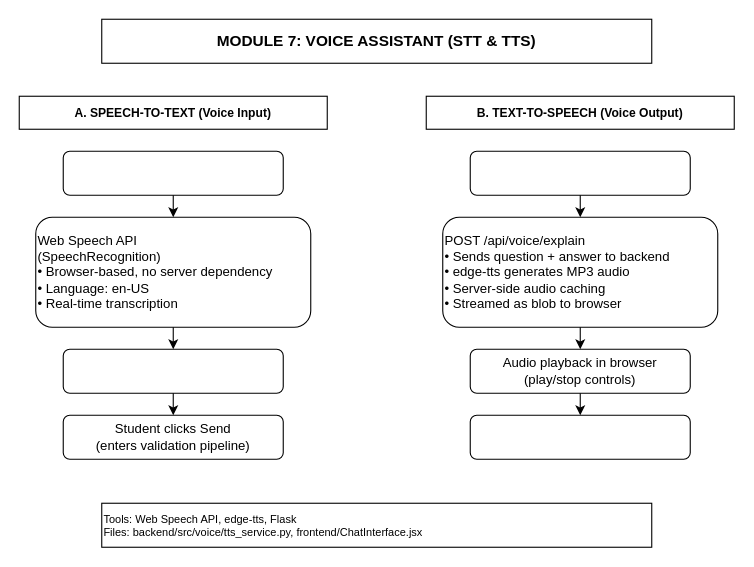
This 754x567 diagram has some shape labels left out. Each missing label, with the box of its shape:
Cached on server (audio_cache/ directory): (469, 414, 690, 459)
Student clicks Mic button: (62, 150, 283, 195)
Student clicks Speaker icon on generated answer: (469, 150, 690, 195)
Transcribed text appears in input field: (62, 348, 283, 393)
